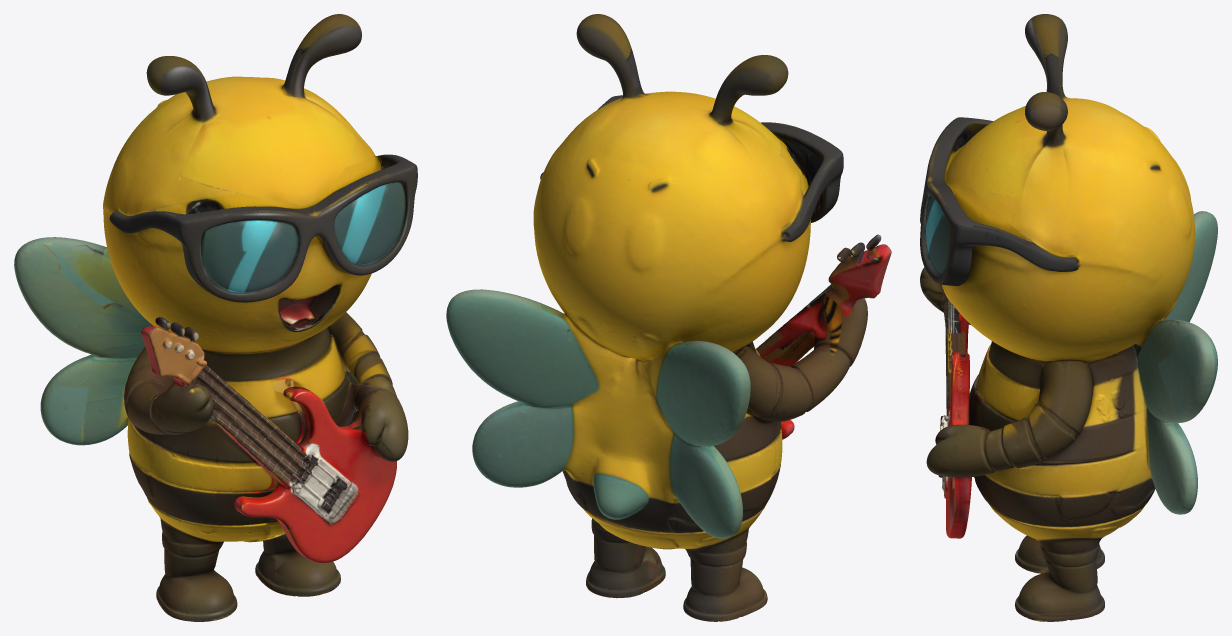
Rendered from RockerBee.glb.
3 renders of one model, left to right at view 1: azimuth 30°, elevation 25°; view 2: azimuth 150°, elevation 25°; view 3: azimuth 270°, elevation 25°, orthographic. The views are drawn at different scales.
Size of the model in its own units: 1.12 by 1.9 by 0.974.
Materials: 1 (1 with a texture image).
